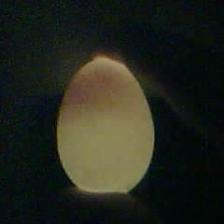infertile: (56, 54, 155, 196)
